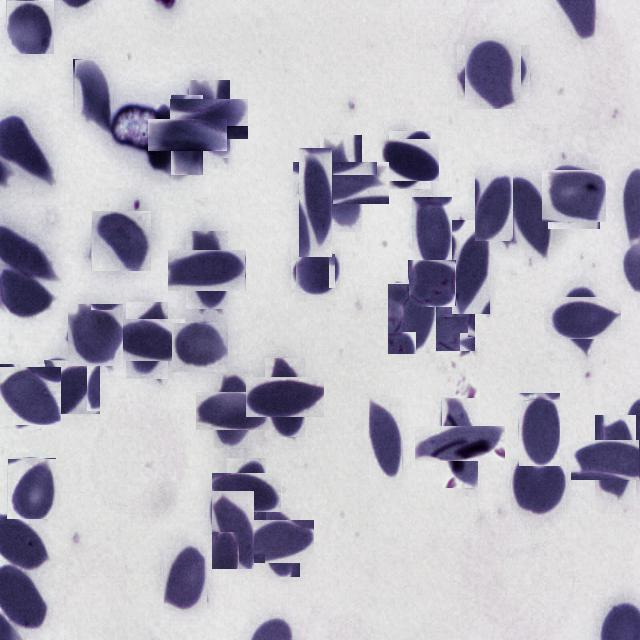red blood cell: (306, 148, 376, 218), (462, 41, 526, 105), (428, 412, 492, 474), (508, 172, 552, 260), (300, 148, 334, 257), (0, 365, 59, 427), (583, 427, 640, 491), (552, 288, 612, 348), (177, 240, 237, 300), (255, 368, 315, 428), (91, 211, 151, 271), (452, 220, 490, 314), (117, 311, 177, 370), (180, 89, 239, 149), (67, 303, 123, 366), (387, 283, 436, 354), (544, 168, 604, 225), (211, 490, 254, 569), (249, 512, 307, 570), (206, 382, 262, 440), (511, 459, 566, 517), (159, 107, 215, 163), (518, 392, 560, 466), (163, 542, 207, 612), (7, 458, 56, 520), (44, 360, 100, 414), (220, 466, 274, 520), (412, 197, 452, 269), (420, 300, 472, 354), (172, 323, 228, 372), (74, 59, 112, 131), (369, 397, 402, 479), (475, 172, 513, 241), (6, 0, 54, 54), (385, 135, 435, 185), (408, 260, 456, 306), (294, 248, 338, 292)
